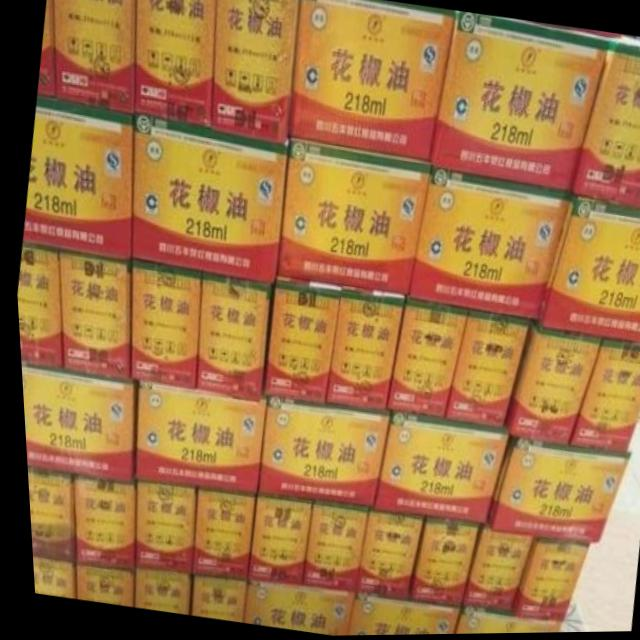box: (426, 15, 611, 194), (286, 0, 455, 169), (128, 114, 285, 286), (405, 169, 572, 324), (273, 145, 429, 302), (19, 93, 133, 261), (535, 195, 640, 347), (368, 414, 504, 529), (130, 382, 264, 496), (485, 436, 623, 544), (252, 402, 386, 508), (17, 364, 132, 487), (209, 0, 301, 146), (498, 323, 599, 450), (570, 38, 640, 210), (436, 310, 528, 431), (133, 0, 218, 127), (380, 300, 466, 424), (192, 273, 271, 402), (258, 281, 337, 410), (320, 291, 401, 414), (55, 249, 128, 382), (125, 260, 199, 391), (54, 0, 136, 114), (565, 338, 640, 455), (505, 535, 585, 626), (455, 526, 529, 616), (125, 481, 192, 578), (403, 518, 473, 610), (296, 501, 364, 595), (348, 510, 418, 601), (238, 579, 348, 636), (184, 488, 252, 579), (66, 472, 129, 570), (241, 494, 307, 586), (14, 244, 59, 372), (341, 590, 454, 636), (22, 465, 70, 563), (447, 607, 556, 635), (184, 576, 243, 622), (68, 563, 128, 606), (127, 571, 186, 614), (36, 0, 56, 98), (26, 558, 69, 597)
